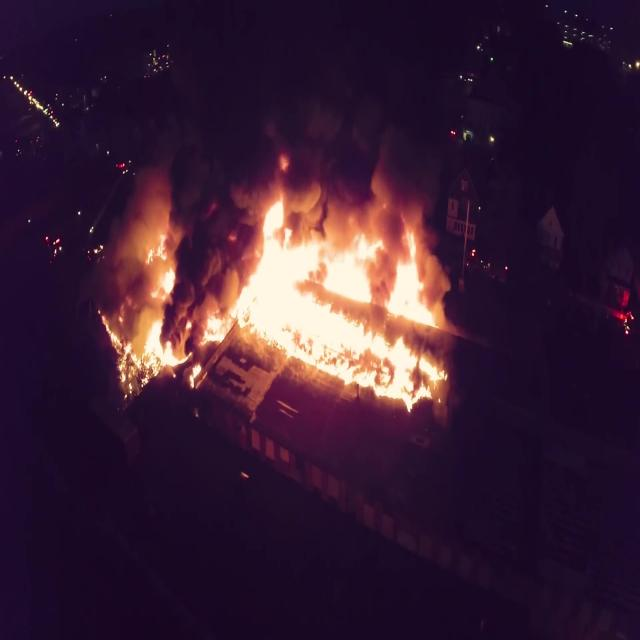Fire: (110, 199, 448, 440)
